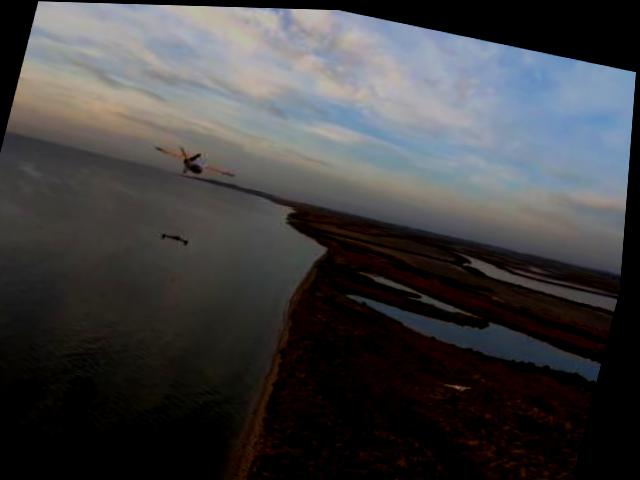uav: (146, 138, 249, 185), (157, 227, 195, 245)
